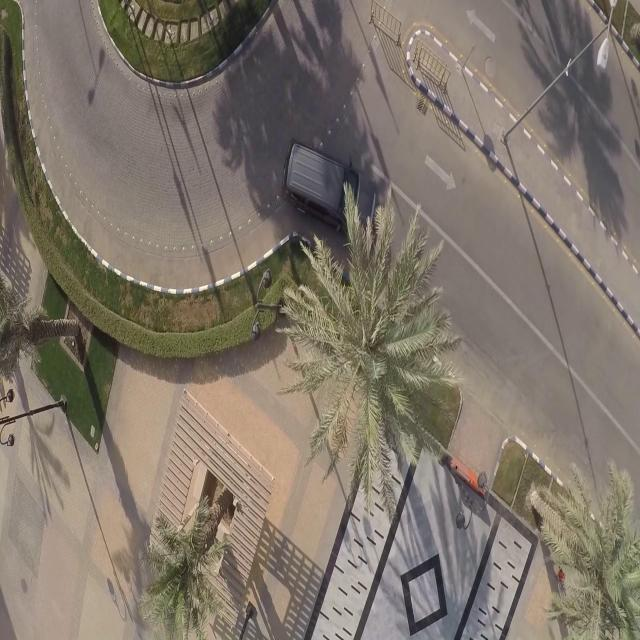car: (283, 136, 377, 241)
